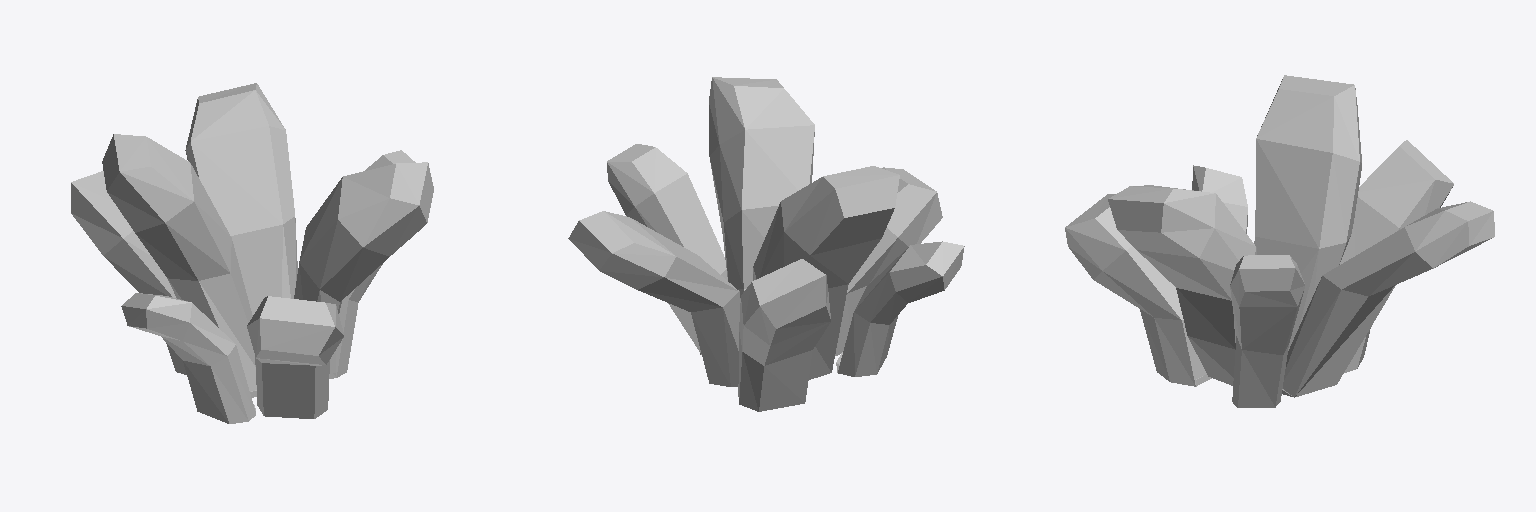
File: Anemone_A_01_LOD2.obj
3 views of the same model, side by side, from view 1: azimuth 30°, elevation 25°; view 2: azimuth 150°, elevation 25°; view 3: azimuth 270°, elevation 25° (orthographic).
Visible parts, largest first — view 1: Anemone_A_01_LOD2_Cylinder.411; view 2: Anemone_A_01_LOD2_Cylinder.411; view 3: Anemone_A_01_LOD2_Cylinder.411.
Boxes of the visible parts, x1,y1,x2,y2 form: Anemone_A_01_LOD2_Cylinder.411: [71, 83, 433, 423]; Anemone_A_01_LOD2_Cylinder.411: [568, 77, 964, 411]; Anemone_A_01_LOD2_Cylinder.411: [1065, 75, 1494, 407].
Size of the model in its own units: 3.73 by 2.76 by 4.49.